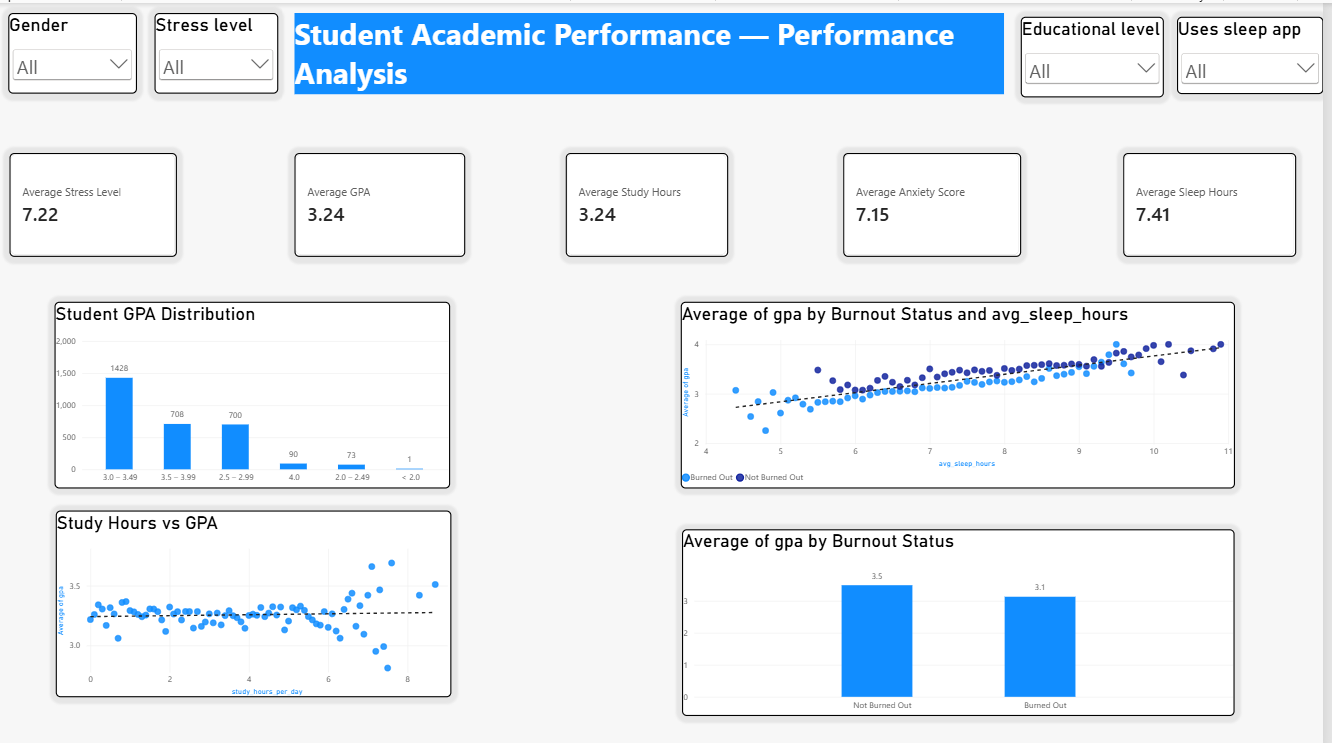

This screenshot's page, from the dashboard's own definition file:
{"tool":"powerbi","page":{"name":"Performance Analysis","canvas":[1920,1080],"ordinal":3},"visuals":[{"type":"slicer","title":"Gender","fields":{"Values":["student_sleep.gender","student_sleep.education_level"]},"box":[16.7,14.3,186.1,116.9],"z":0},{"type":"slicer","title":"Stress level","fields":{"Values":["student_sleep.stress_level","student_sleep.uses_sleep_app"]},"box":[227.5,15,178.9,116.9],"z":1000},{"type":"textbox","box":[430,15,1027.5,117.5],"z":2000},{"type":"slicer","title":"Educational level","fields":{"Values":["student_sleep.education_level"]},"box":[1482.5,20,207.6,116.9],"z":3000},{"type":"slicer","title":"Uses sleep app","fields":{"Values":["student_sleep.uses_sleep_app"]},"box":[1707.7,19.1,212.3,112.1],"z":4000},{"type":"cardVisual","fields":{"Data":["measure.Average Stress Level"]},"box":[17.5,217.5,242.5,150],"z":5000},{"type":"cardVisual","fields":{"Data":["measure.Average Sleep Hours"]},"box":[1630,217.5,250,150],"z":6000},{"type":"cardVisual","fields":{"Data":["measure.Average Anxiety Score"]},"box":[1225,217.5,257.5,150],"z":7000},{"type":"cardVisual","fields":{"Data":["measure.Average Study Hours"]},"box":[822.5,217.5,235,150],"z":8000},{"type":"cardVisual","fields":{"Data":["measure.Average GPA"]},"box":[430,217.5,247.5,150],"z":9000},{"type":"columnChart","title":"Student GPA Distribution","fields":{"Category":["student_sleep.GPA Band"],"Y":["Count(student_sleep.student_id)"]},"box":[82.5,432.5,572.5,270],"z":10000},{"type":"scatterChart","title":"Study Hours vs GPA","fields":{"X":["student_sleep.study_hours_per_day"],"Y":["Avg(student_sleep.gpa)"]},"box":[85,735,573,270],"z":11000},{"type":"scatterChart","fields":{"X":["student_sleep.avg_sleep_hours"],"Y":["Avg(student_sleep.gpa)"],"Series":["student_sleep.Burnout Status"]},"box":[990,432.5,802,270],"z":12000},{"type":"clusteredColumnChart","fields":{"Category":["student_sleep.Burnout Status"],"Y":["Avg(student_sleep.gpa)"]},"box":[992.5,762.5,800,270],"z":13000}]}

Visuals, with their boxes in screenshot pixels (x1, y1, x2, y2), scaled from the page's 1920x1080 canvas onto the 1332x743 screenshot:
"Gender" slicer: {"x1": 12, "y1": 10, "x2": 141, "y2": 90}
"Stress level" slicer: {"x1": 158, "y1": 10, "x2": 282, "y2": 91}
textbox: {"x1": 298, "y1": 10, "x2": 1011, "y2": 91}
"Educational level" slicer: {"x1": 1028, "y1": 14, "x2": 1173, "y2": 94}
"Uses sleep app" slicer: {"x1": 1185, "y1": 13, "x2": 1331, "y2": 90}
cardVisual - measure.Average Stress Level: {"x1": 12, "y1": 150, "x2": 180, "y2": 253}
cardVisual - measure.Average Sleep Hours: {"x1": 1131, "y1": 150, "x2": 1304, "y2": 253}
cardVisual - measure.Average Anxiety Score: {"x1": 850, "y1": 150, "x2": 1028, "y2": 253}
cardVisual - measure.Average Study Hours: {"x1": 571, "y1": 150, "x2": 734, "y2": 253}
cardVisual - measure.Average GPA: {"x1": 298, "y1": 150, "x2": 470, "y2": 253}
"Student GPA Distribution" columnChart: {"x1": 57, "y1": 298, "x2": 454, "y2": 483}
"Study Hours vs GPA" scatterChart: {"x1": 59, "y1": 506, "x2": 456, "y2": 691}
scatterChart - student_sleep.avg_sleep_hours x Avg(student_sleep.gpa): {"x1": 687, "y1": 298, "x2": 1243, "y2": 483}
clusteredColumnChart - student_sleep.Burnout Status x Avg(student_sleep.gpa): {"x1": 689, "y1": 525, "x2": 1244, "y2": 710}
